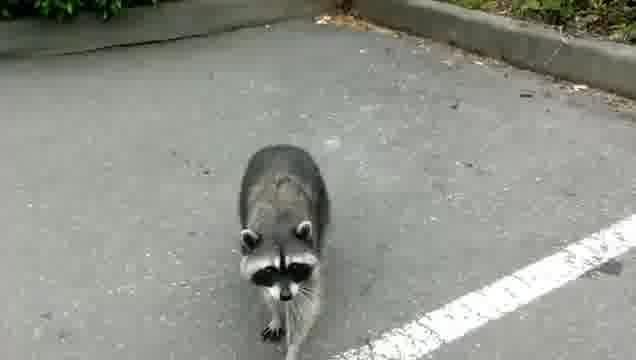raccoon: (237, 143, 331, 360)
